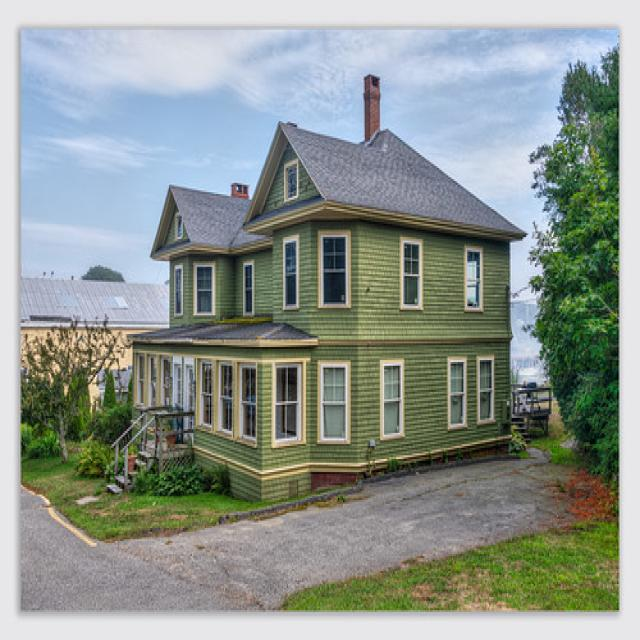building: (127, 81, 527, 509)
